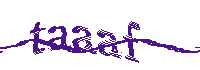a: (71, 24, 96, 55), (97, 28, 121, 59), (48, 23, 69, 54)
f: (122, 21, 143, 63)
t: (28, 20, 47, 55)
